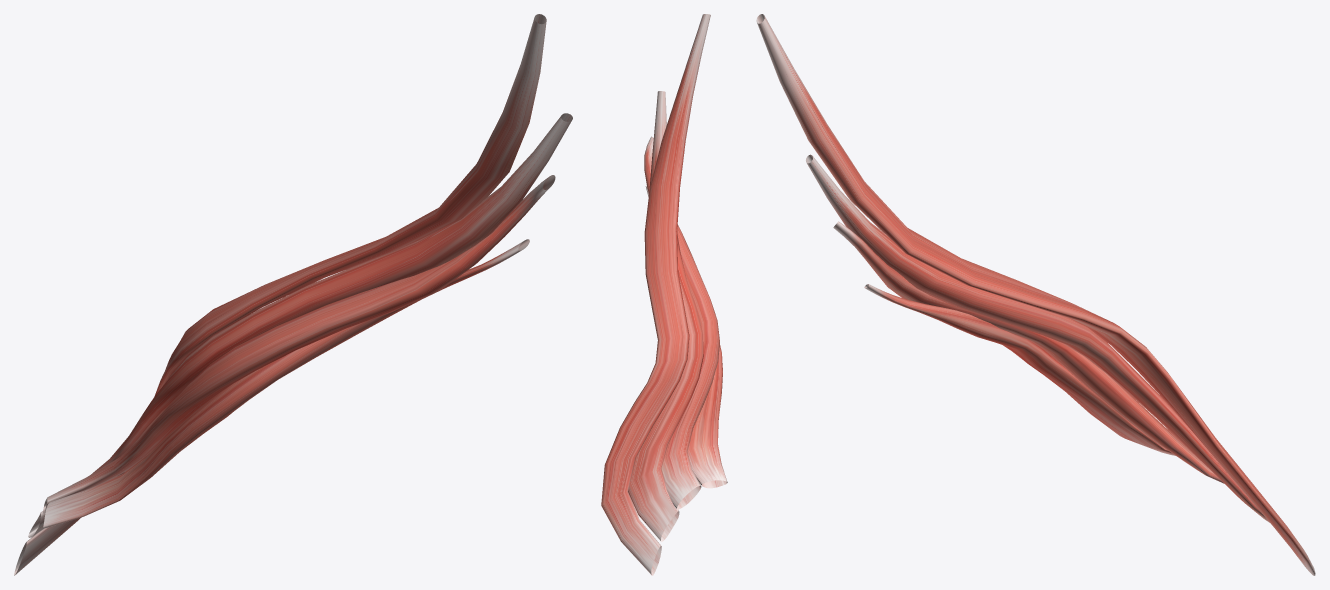
The model's file is Levator_Scapulae_Muscle_Right.obj.
The picture shows the model from 3 angles, left to right: view 1: azimuth 30°, elevation 25°; view 2: azimuth 150°, elevation 25°; view 3: azimuth 270°, elevation 25°; orthographic projection. The views are drawn at different scales.
Parts seen in each view (by area): view 1: Levator_Scapulae_Muscle_Right_02:Levator_Scapulae_Muscle_02_Righ, Levator_Scapulae_Muscle_Right_01:Levator_Scapulae_Muscle_01_Righ, Levator_Scapulae_Muscle_Right_03:Levator_Scapulae_Muscle_03_Righ, Levator_Scapulae_Muscle_Right_04:Levator_Scapulae_Muscle_04_Righ; view 2: Levator_Scapulae_Muscle_Right_01:Levator_Scapulae_Muscle_01_Righ, Levator_Scapulae_Muscle_Right_02:Levator_Scapulae_Muscle_02_Righ, Levator_Scapulae_Muscle_Right_03:Levator_Scapulae_Muscle_03_Righ, Levator_Scapulae_Muscle_Right_04:Levator_Scapulae_Muscle_04_Righ; view 3: Levator_Scapulae_Muscle_Right_01:Levator_Scapulae_Muscle_01_Righ, Levator_Scapulae_Muscle_Right_02:Levator_Scapulae_Muscle_02_Righ, Levator_Scapulae_Muscle_Right_03:Levator_Scapulae_Muscle_03_Righ, Levator_Scapulae_Muscle_Right_04:Levator_Scapulae_Muscle_04_Righ.
Boxes of the visible parts, x1,y1,x2,y2 form: Levator_Scapulae_Muscle_Right_02:Levator_Scapulae_Muscle_02_Righ: (28, 113, 572, 537); Levator_Scapulae_Muscle_Right_01:Levator_Scapulae_Muscle_01_Righ: (14, 14, 546, 575); Levator_Scapulae_Muscle_Right_03:Levator_Scapulae_Muscle_03_Righ: (43, 175, 555, 513); Levator_Scapulae_Muscle_Right_04:Levator_Scapulae_Muscle_04_Righ: (43, 239, 529, 528); Levator_Scapulae_Muscle_Right_01:Levator_Scapulae_Muscle_01_Righ: (601, 14, 710, 575); Levator_Scapulae_Muscle_Right_02:Levator_Scapulae_Muscle_02_Righ: (628, 91, 703, 542); Levator_Scapulae_Muscle_Right_03:Levator_Scapulae_Muscle_03_Righ: (644, 136, 719, 509); Levator_Scapulae_Muscle_Right_04:Levator_Scapulae_Muscle_04_Righ: (645, 186, 727, 488); Levator_Scapulae_Muscle_Right_01:Levator_Scapulae_Muscle_01_Righ: (756, 14, 1315, 575); Levator_Scapulae_Muscle_Right_02:Levator_Scapulae_Muscle_02_Righ: (806, 154, 1269, 522); Levator_Scapulae_Muscle_Right_03:Levator_Scapulae_Muscle_03_Righ: (833, 221, 1224, 483); Levator_Scapulae_Muscle_Right_04:Levator_Scapulae_Muscle_04_Righ: (864, 284, 1175, 455).
Size of the model in its own units: 0.8448 by 1.81 by 1.41.
